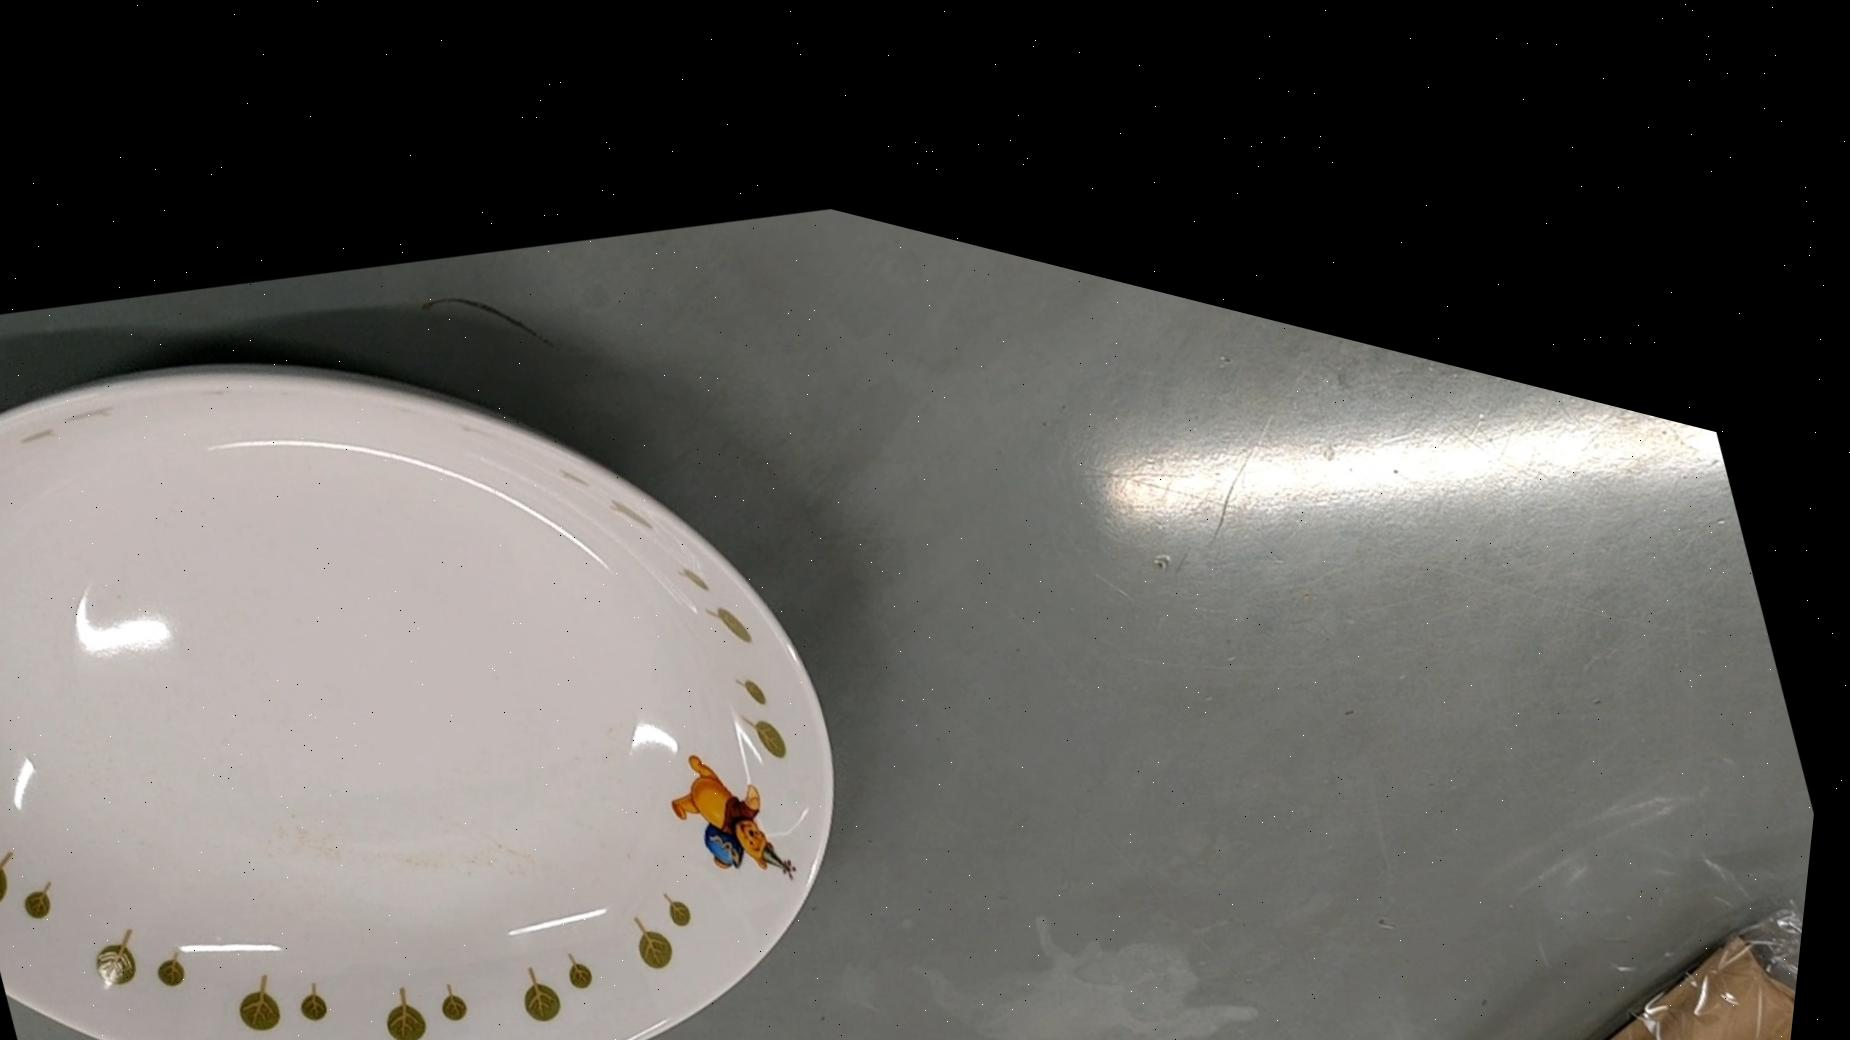plate: (0, 105, 981, 1040)
